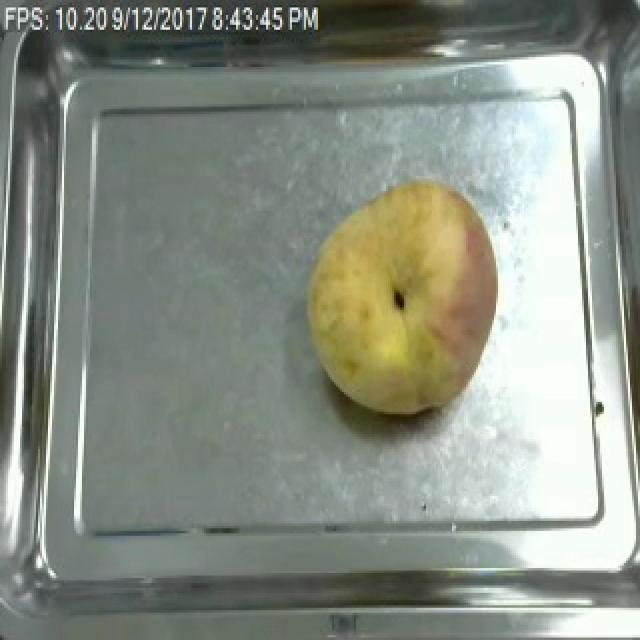Fruit: (296, 174, 508, 424)
